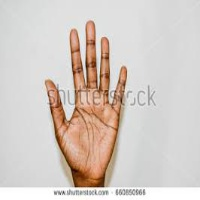ring: (97, 35, 114, 97)
